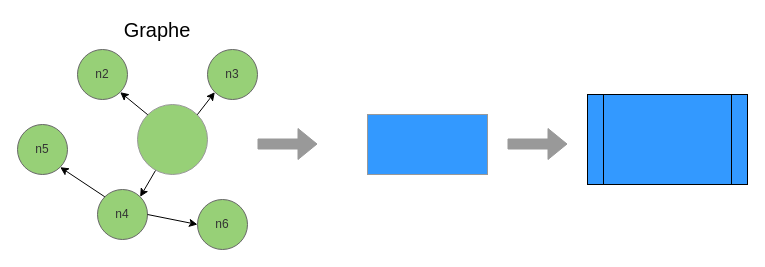
The diagram is 765 pixels wide and 267 high, and some of its shapes have lost their labels. Here are the shapes that lost their labels. From the top down, the centre of each, then its label:
At (x=172, y=139): "n1".
At (x=427, y=144): "Encodeur".
At (x=667, y=139): "Graphe encodé dans un vecteur de taille fixe".
